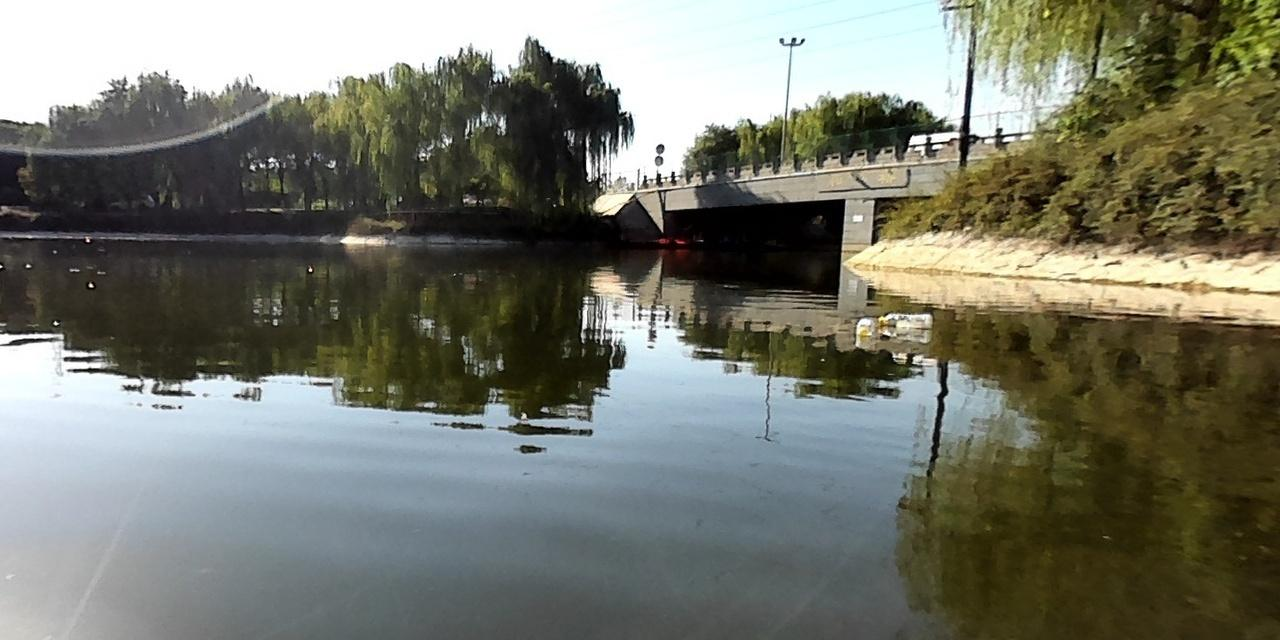bottle: (880, 310, 933, 329), (855, 316, 872, 334)
